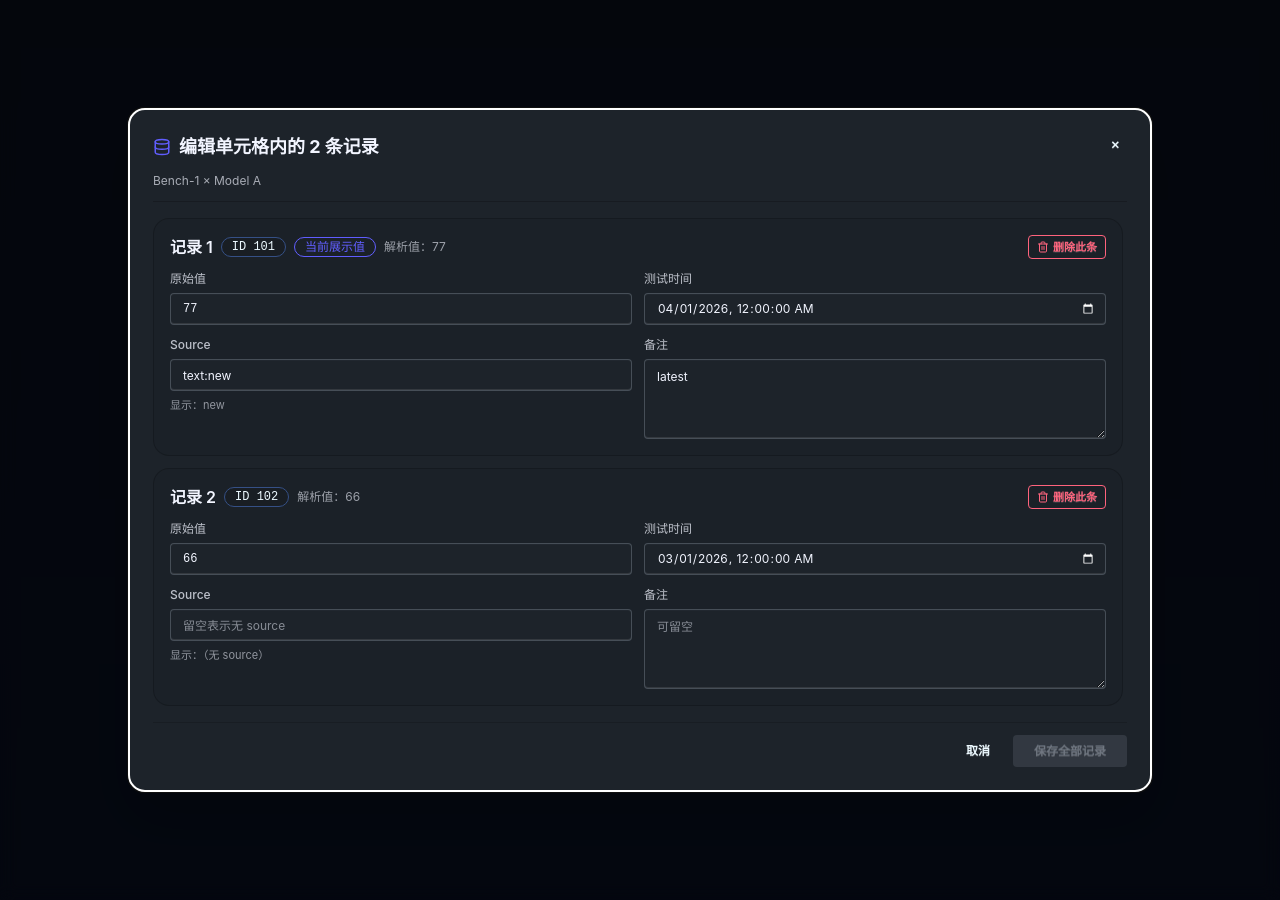
RecordsMultiValueDialog › 未删除记录的空值会阻止保存
The width and height of the screenshot is (1280, 900).
Clear the field named "记录 101 原始值" at {"x": 401, "y": 309}, box [170,293,632,325]
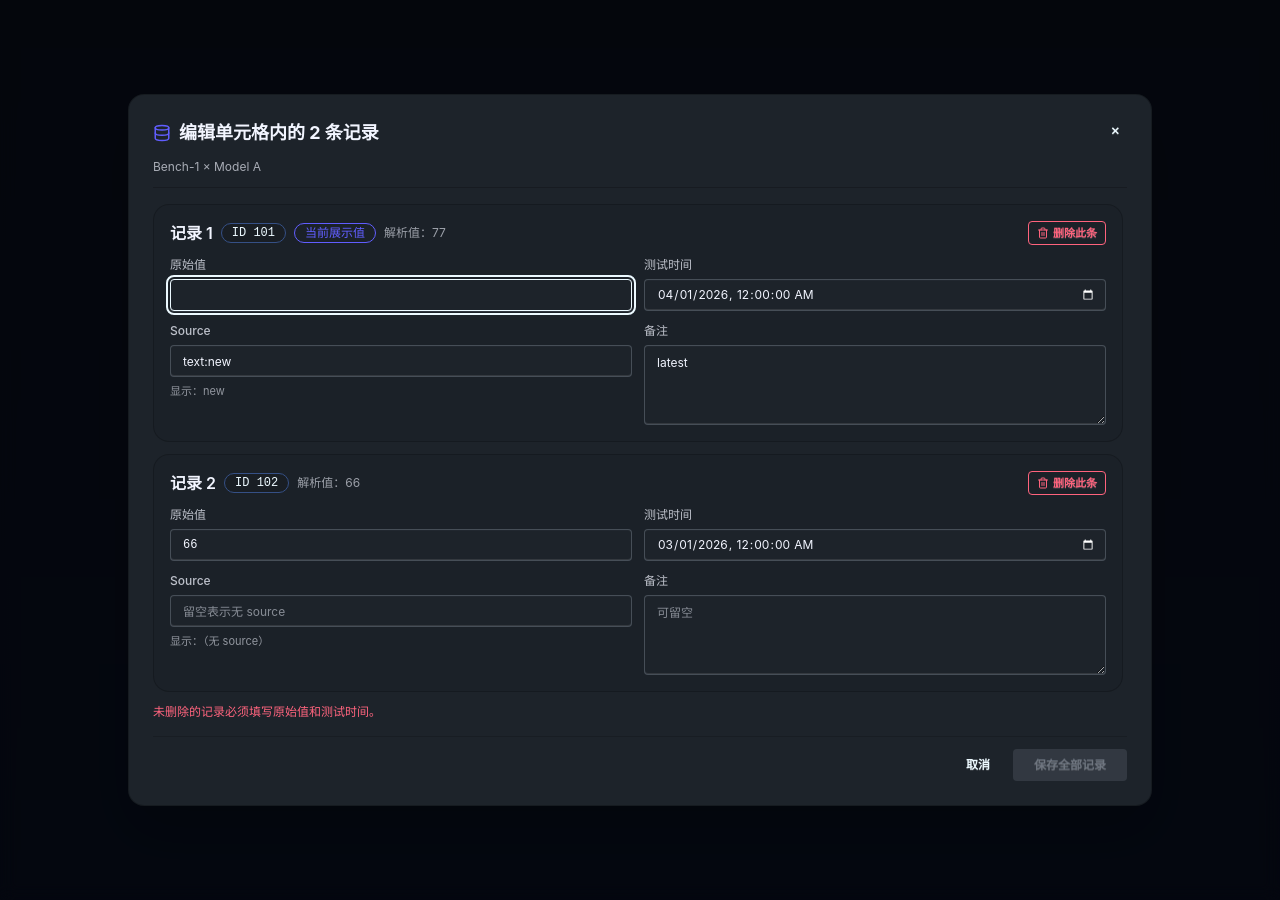
Expected: the button "保存全部记录" is disabled, [1013,749,1127,781]
Expected: the text "未删除的记录必须填写原始值和测试时间。" is shown, [153,704,381,719]
